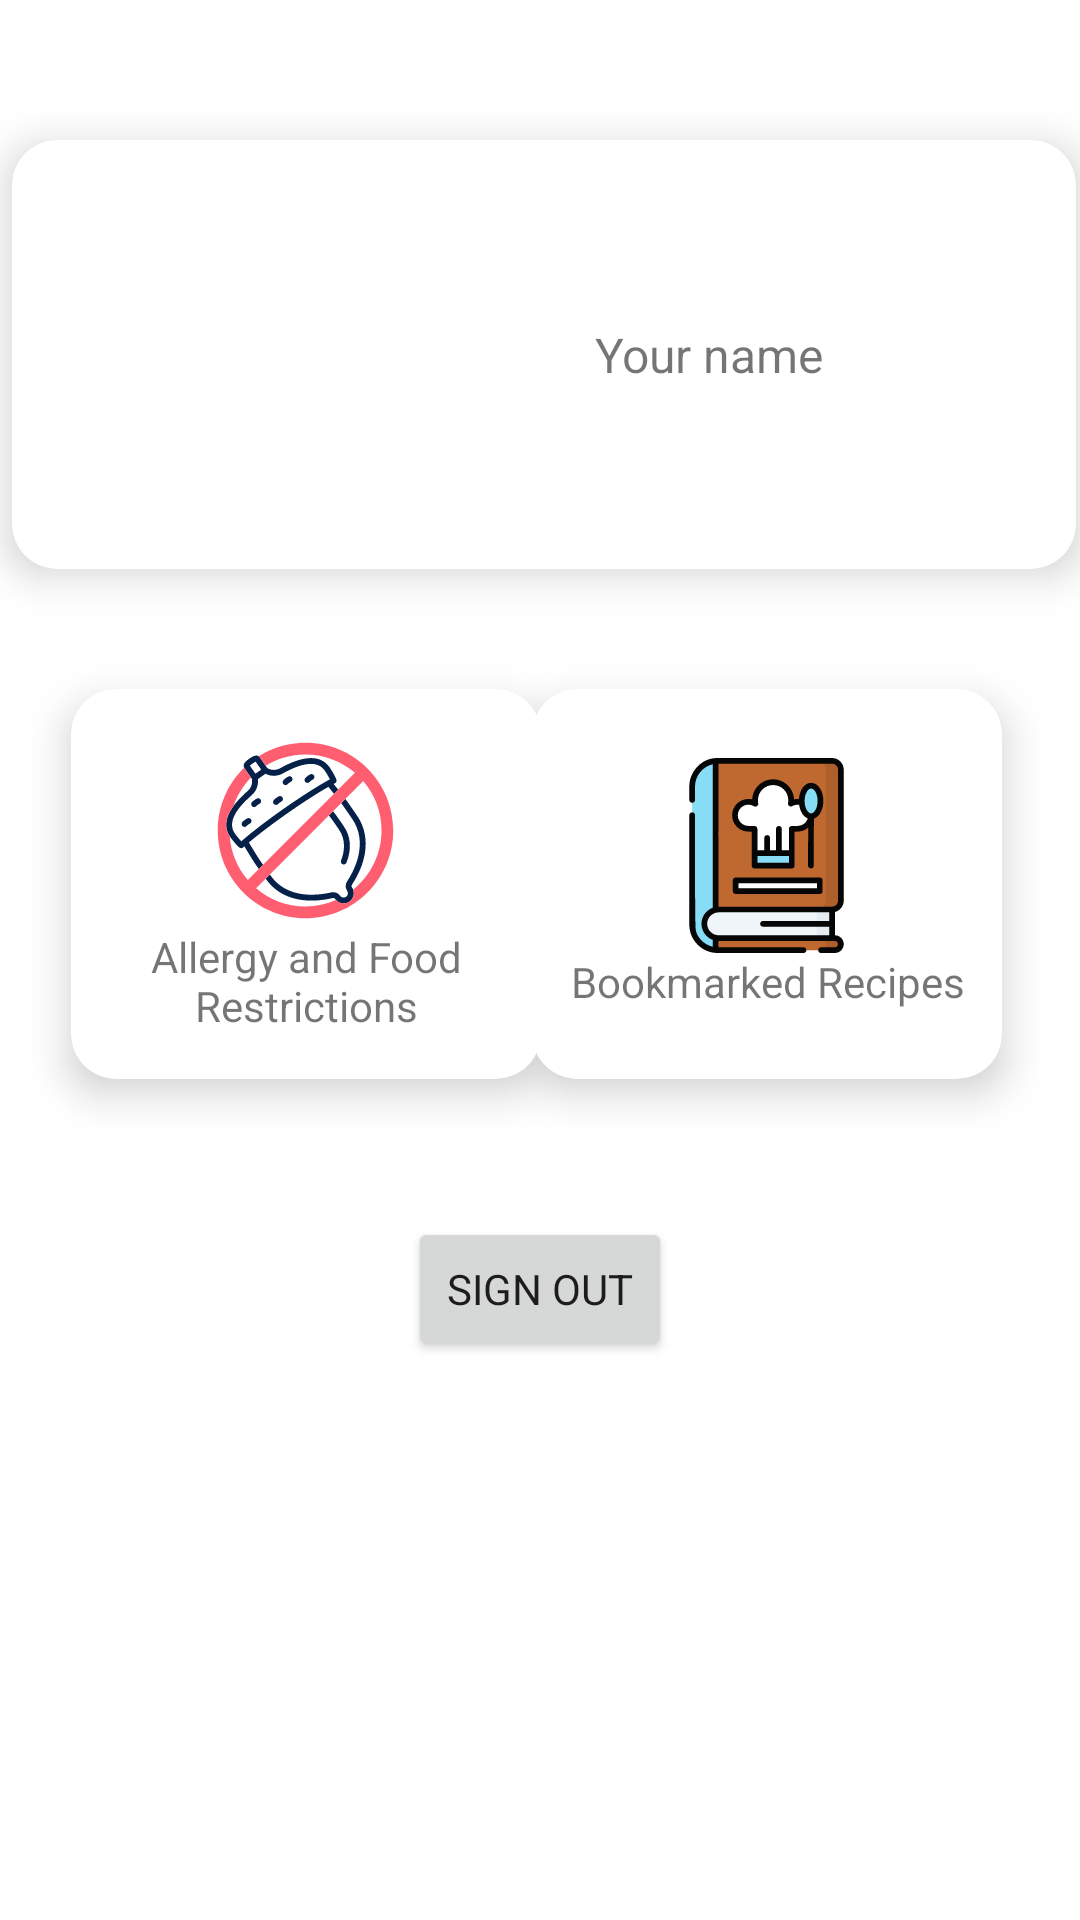

Screen size 1080×1920. Icon name, then its box in pixels as (x1, y1, x2, y2):
nuts not allowed: (217, 742, 394, 919)
recipe book: (689, 758, 844, 953)
